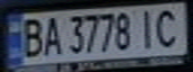3: (63, 12, 84, 54)
7: (97, 10, 118, 52), (81, 11, 100, 53)
8: (115, 8, 136, 52)
A: (39, 14, 63, 57)
B: (18, 15, 48, 58)
C: (151, 6, 184, 49)
I: (133, 7, 160, 51)
